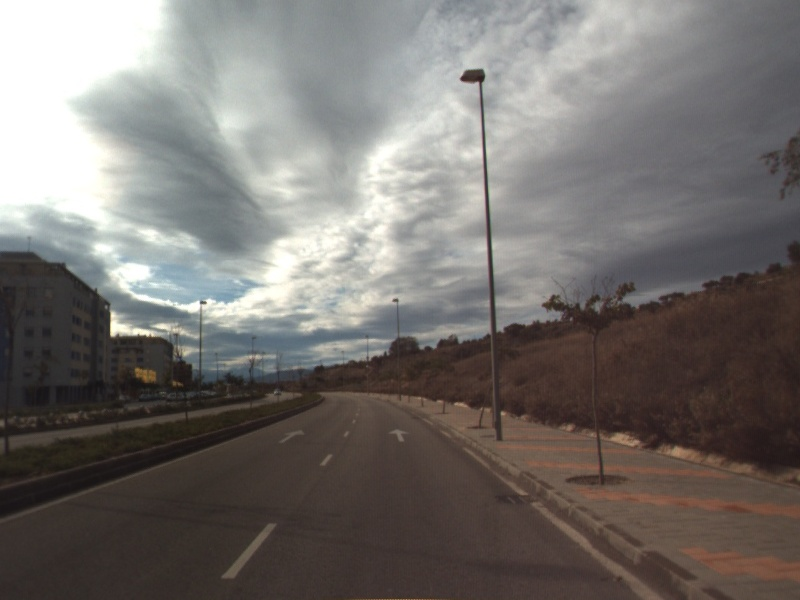STRAIGHT: (276, 427, 307, 445), (386, 426, 412, 444)
